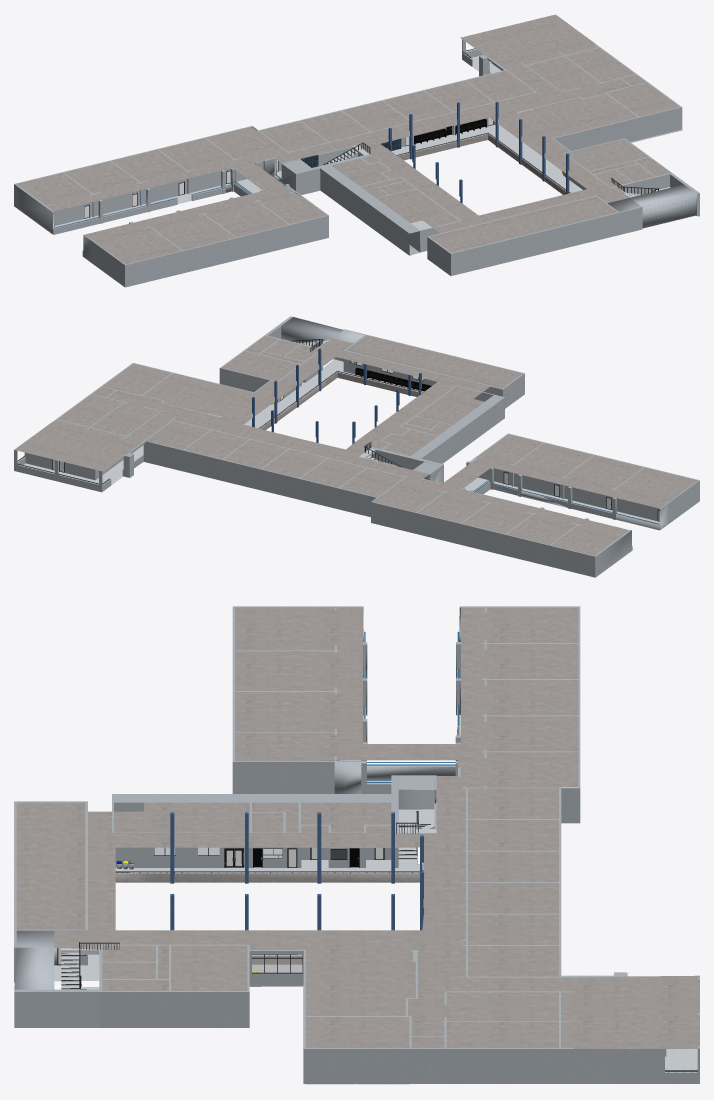
The model's file is FACU-P1OP.glb.
3 views of the same model, one above another, from view 1: azimuth 30°, elevation 25°; view 2: azimuth 150°, elevation 25°; view 3: azimuth 270°, elevation 25° (orthographic). The views are drawn at different scales.
Visible parts, largest first — view 1: Techo_P1, Paredes_P1.001, Piso_P1, Columnas_P1, Ventanas_Puertas_P1, CubiculosB_P1; view 2: Techo_P1, Paredes_P1.001, Piso_P1, Ventanas_Puertas_P1, Columnas_P1, CubiculosB_P1; view 3: Techo_P1, Paredes_P1.001, Piso_P1, Ventanas_Puertas_P1, Columnas_P1, Basura_P1.
Boxes of the visible parts, x1,y1,x2,y2 form: Techo_P1: (17,15,679,264); Paredes_P1.001: (14,14,699,287); Piso_P1: (54,56,682,245); Columnas_P1: (388,101,569,203); Ventanas_Puertas_P1: (84,48,658,218); CubiculosB_P1: (414,119,486,144); Techo_P1: (15,335,697,555); Paredes_P1.001: (14,316,699,577); Piso_P1: (23,339,659,523); Ventanas_Puertas_P1: (17,339,659,521); Columnas_P1: (252,348,421,443); CubiculosB_P1: (355,368,431,391); Techo_P1: (16,607,699,1048); Paredes_P1.001: (14,606,699,1083); Piso_P1: (54,642,697,1084); Ventanas_Puertas_P1: (57,760,697,1072); Columnas_P1: (170,812,423,930); Basura_P1: (61,631,459,989).
Size of the model in its own units: 0.9551 by 0.077 by 0.6254.
17 materials, 16 textured.
